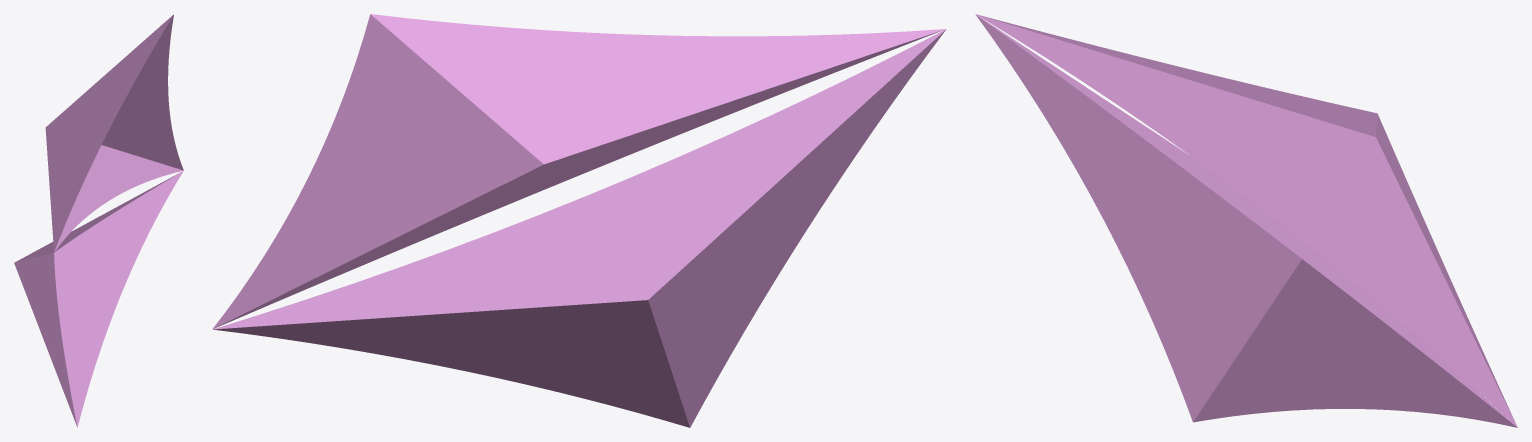
Rendered from TYPE4-2.glb.
3 renders of one model, left to right at view 1: azimuth 30°, elevation 25°; view 2: azimuth 150°, elevation 25°; view 3: azimuth 270°, elevation 25°, orthographic. The views are drawn at different scales.
Visible parts, largest first — view 1: TYPE4-2 (×6); view 2: TYPE4-2 (×6); view 3: TYPE4-2 (×6).
Part boxes in pixels (bbox=[...]): TYPE4-2 (×6): bbox=[14, 14, 183, 427]; TYPE4-2 (×6): bbox=[212, 14, 945, 427]; TYPE4-2 (×6): bbox=[975, 14, 1517, 427].
Bounding box in the file's own units: 6.26 × 5.65 × 6.7.
